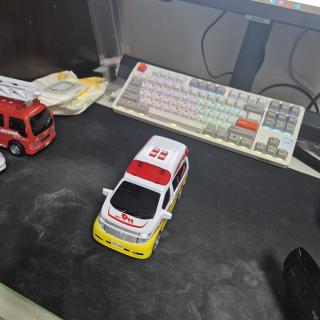Ambulance: (93, 136, 189, 258)
